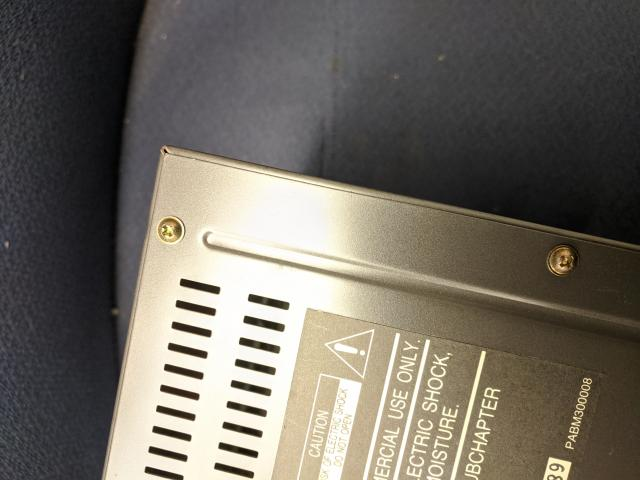CRS: (547, 245, 578, 276), (157, 218, 186, 244)
